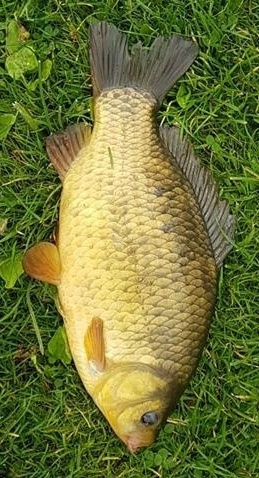Carassius carassius: (20, 20, 239, 458)
